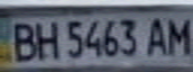3: (118, 16, 142, 58)
4: (81, 16, 106, 58)
5: (60, 17, 84, 59)
6: (100, 16, 124, 58)
A: (142, 14, 172, 57)
B: (6, 19, 39, 63)
H: (30, 18, 60, 61)
M: (163, 14, 193, 56)
